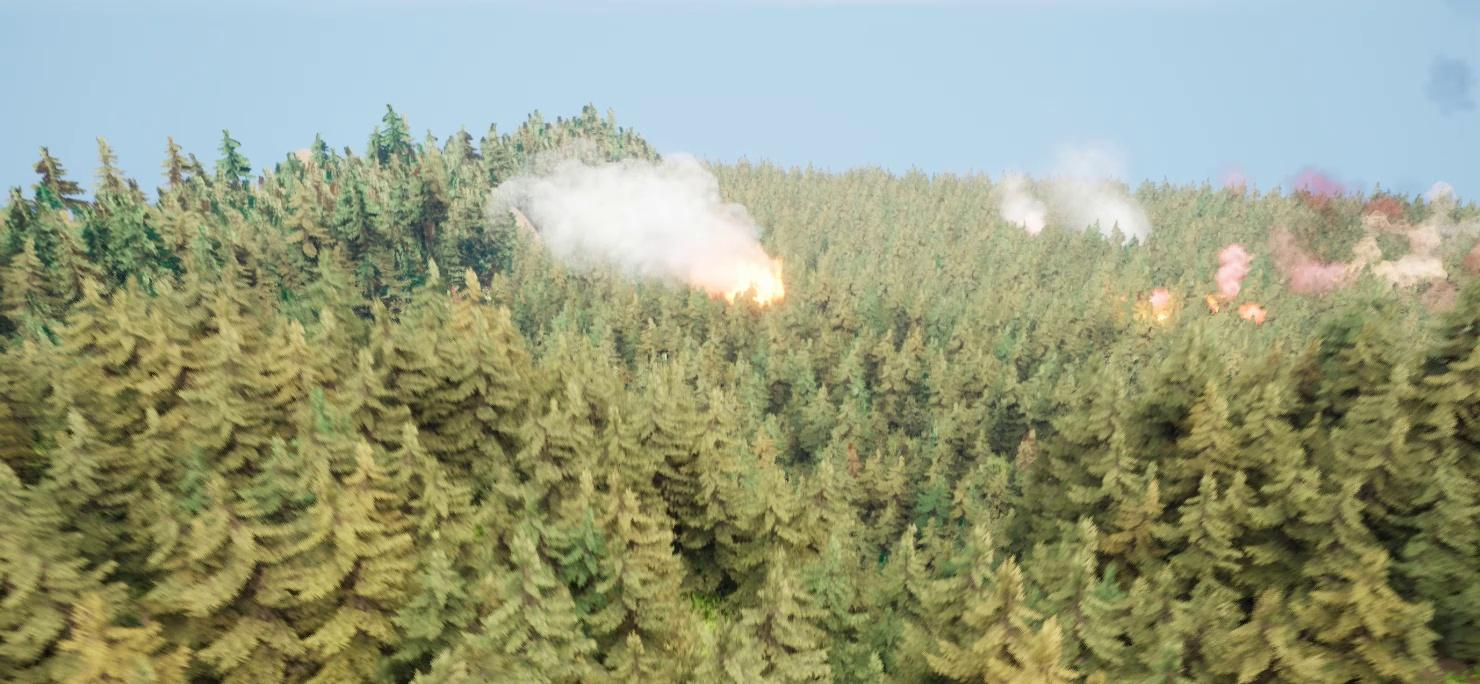fire: (729, 265, 800, 306)
smoke: (482, 147, 772, 293), (1272, 175, 1479, 301), (975, 147, 1154, 252), (1211, 242, 1270, 332), (1126, 286, 1185, 327)
